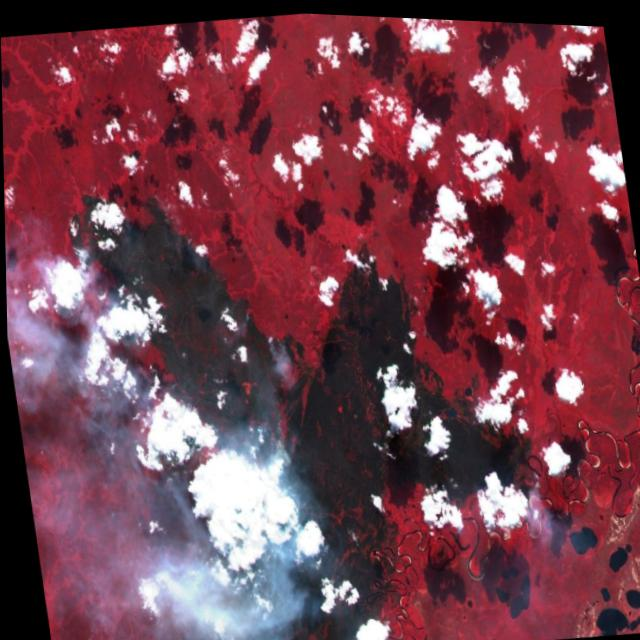fire: (56, 164, 311, 526)
